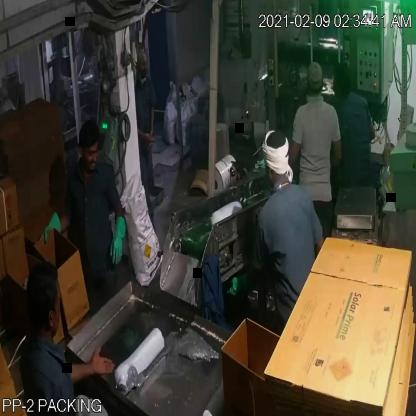glove: (101, 208, 131, 270), (33, 204, 64, 255)
no_glove: (60, 338, 119, 388), (132, 110, 156, 155)
